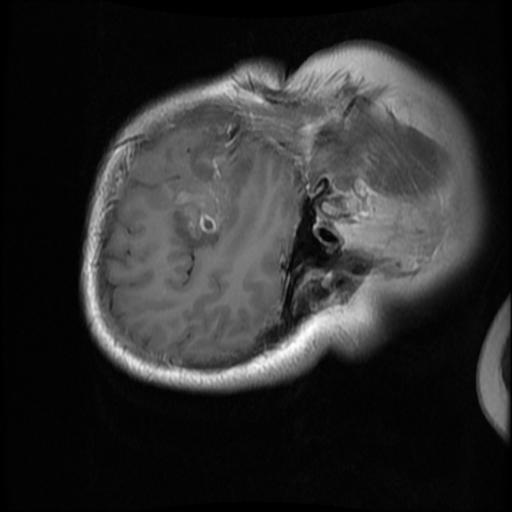glioma: (163, 128, 253, 251)
